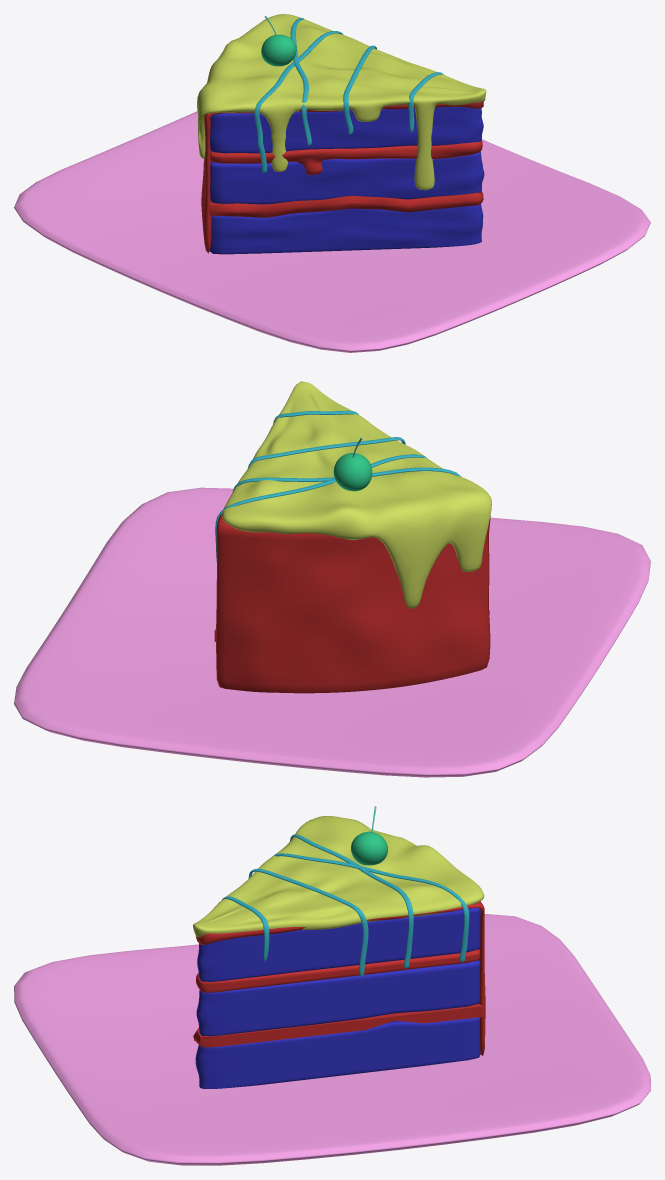
File: cake_slice.glb
The picture shows the model from 3 angles, top to bottom: view 1: azimuth 30°, elevation 25°; view 2: azimuth 150°, elevation 25°; view 3: azimuth 270°, elevation 25°; orthographic projection. The views are drawn at different scales.
Visible parts, largest first — view 1: Chocolate Cake; view 2: Chocolate Cake; view 3: Chocolate Cake.
Boxes of the visible parts, x1,y1,x2,y2 form: Chocolate Cake: [14, 14, 650, 352]; Chocolate Cake: [14, 381, 650, 777]; Chocolate Cake: [14, 806, 650, 1165].
Bounding box in the file's own units: 0.942 × 0.4018 × 1.02.
